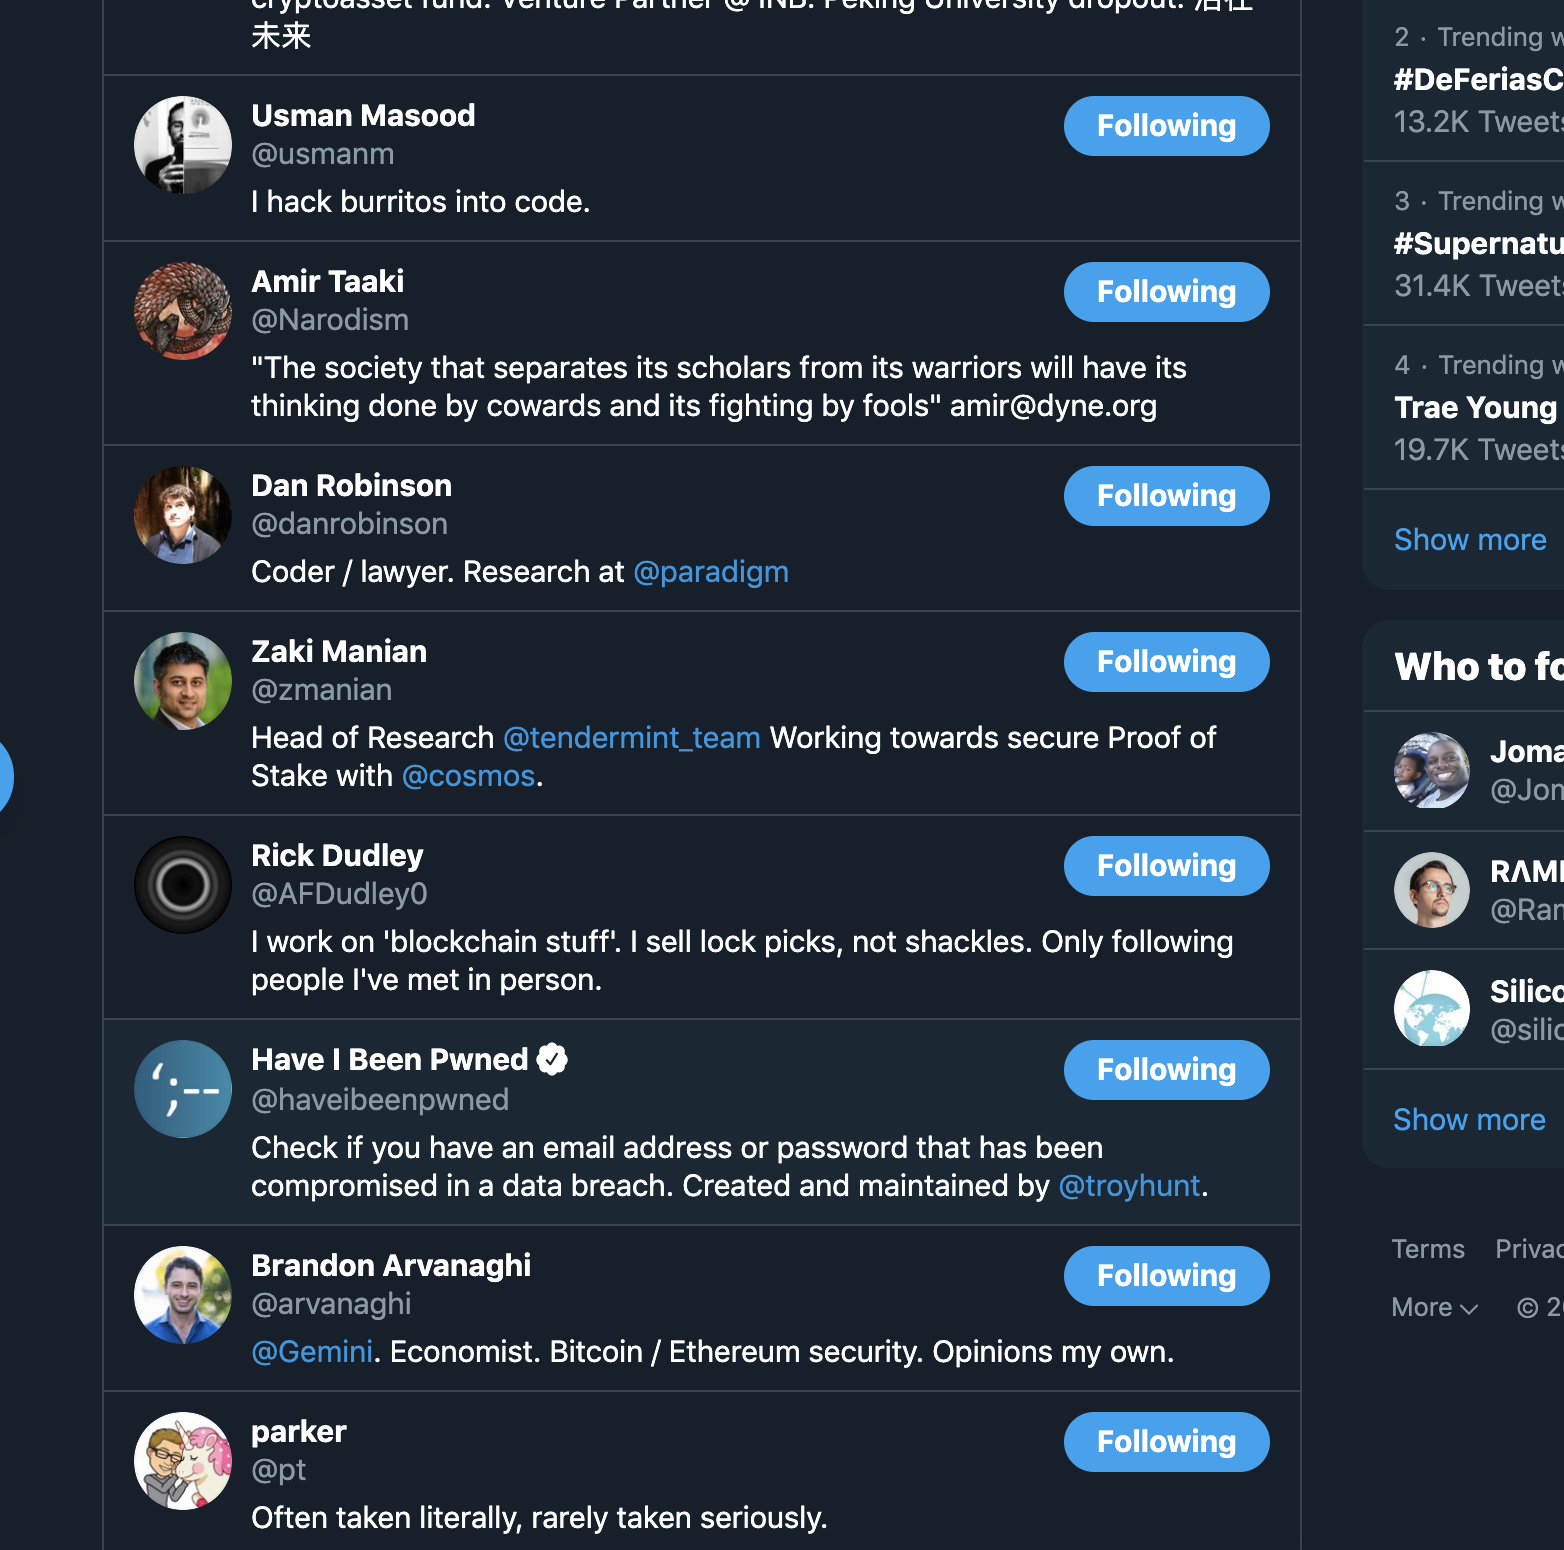following button: (1056, 456, 1272, 537), (1054, 1030, 1277, 1109), (1060, 253, 1272, 331), (1063, 1411, 1277, 1485), (1064, 1241, 1273, 1314), (1062, 835, 1277, 906), (1070, 627, 1273, 698), (1064, 92, 1274, 158)
